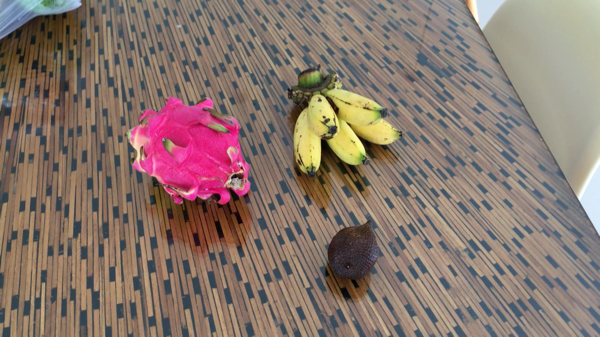banana: (287, 64, 399, 179)
dragon fruit: (127, 101, 250, 203)
snake fruit: (329, 224, 383, 275)
